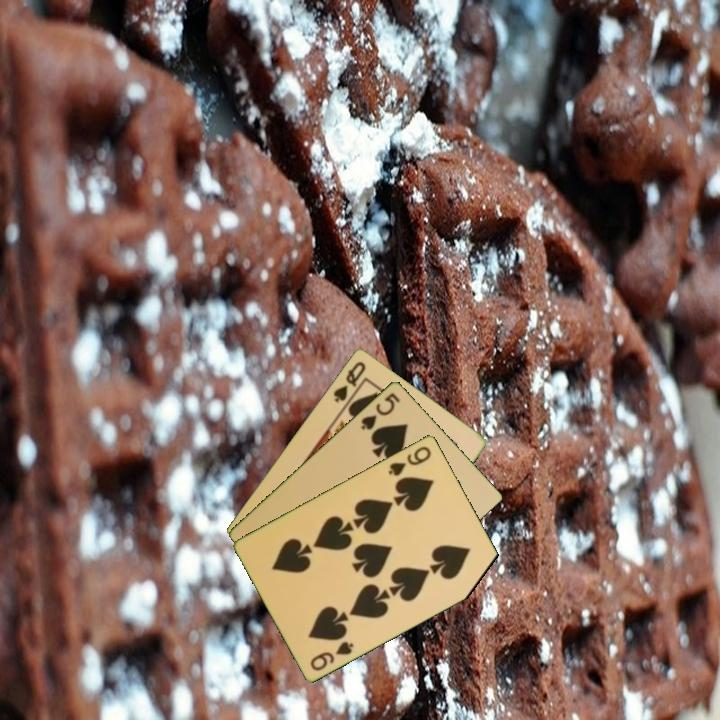5s: (357, 389, 403, 433)
9s: (307, 637, 357, 674), (385, 442, 434, 479)
Qs: (330, 358, 369, 405)
